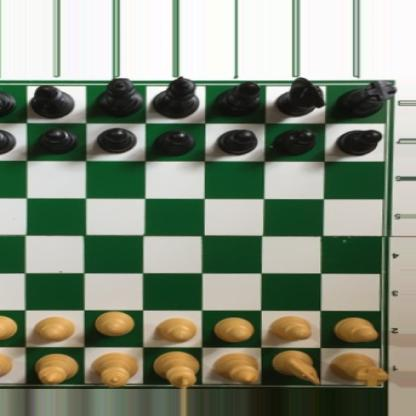black-bishop: (213, 81, 262, 117), (27, 85, 74, 118)
black-king: (150, 76, 201, 118)
black-knight: (277, 76, 327, 118), (0, 76, 17, 116)
black-pawn: (332, 127, 383, 155), (272, 126, 318, 157), (215, 126, 260, 155), (34, 128, 80, 156), (152, 129, 194, 157), (97, 127, 138, 154), (0, 128, 18, 155)
black-queen: (97, 76, 144, 120)
black-rook: (335, 76, 397, 116)
white-bishop: (35, 351, 81, 390), (212, 350, 262, 384)
white-king: (153, 350, 199, 390)
white-knight: (269, 348, 320, 386), (0, 352, 12, 390)
white-pawn: (33, 316, 78, 343), (92, 311, 138, 337), (332, 315, 378, 340), (154, 318, 199, 343), (268, 315, 310, 340), (211, 315, 251, 341), (0, 314, 21, 342)
white-queen: (87, 350, 139, 390)
white-rook: (327, 350, 387, 387)
